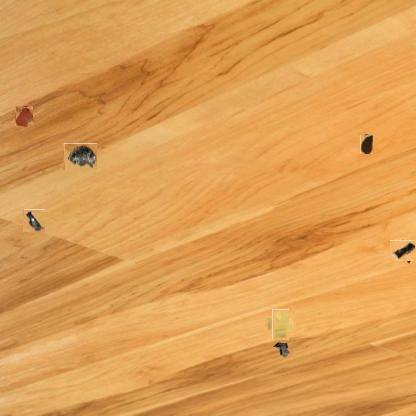dirty: (64, 143, 98, 170), (392, 238, 416, 263), (269, 312, 292, 337), (23, 209, 45, 232), (271, 340, 293, 360)
liquid: (15, 106, 33, 127), (360, 134, 373, 154)
